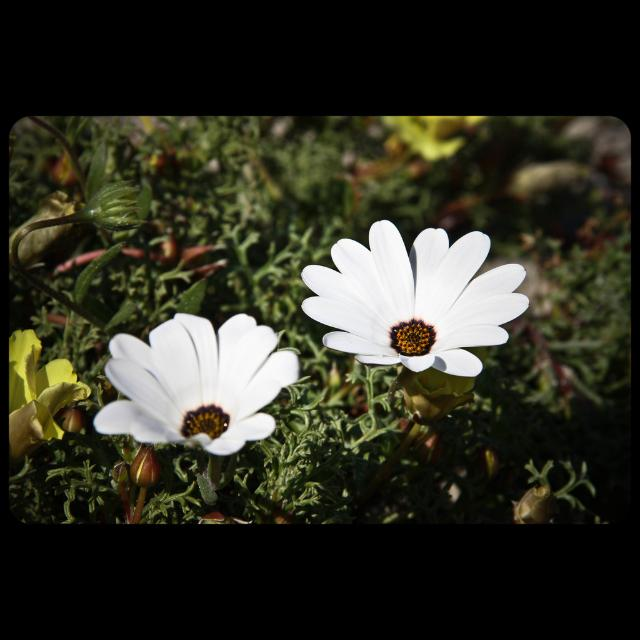Flower: (297, 221, 539, 403), (93, 312, 305, 458), (10, 327, 100, 459), (380, 111, 490, 163)
